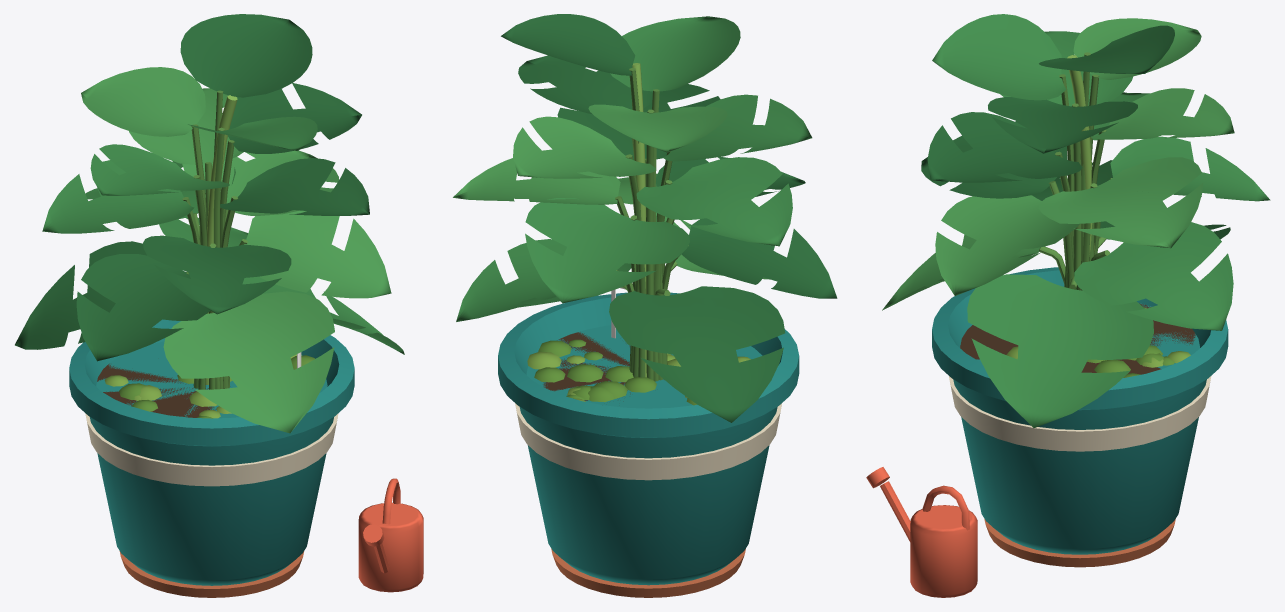
Rendered from plant_big.glb.
The picture shows the model from 3 angles, left to right: view 1: azimuth 30°, elevation 25°; view 2: azimuth 150°, elevation 25°; view 3: azimuth 270°, elevation 25°; orthographic projection. The views are drawn at different scales.
Parts seen in each view (by area): view 1: PlantBigMesh; view 2: PlantBigMesh; view 3: PlantBigMesh.
Part boxes in pixels (x1,y1,x2,y2): PlantBigMesh: (15,14,423,597); PlantBigMesh: (453,14,837,597); PlantBigMesh: (866,14,1270,597).
Bounding box in the file's own units: 0.9514 × 1.42 × 1.01.
